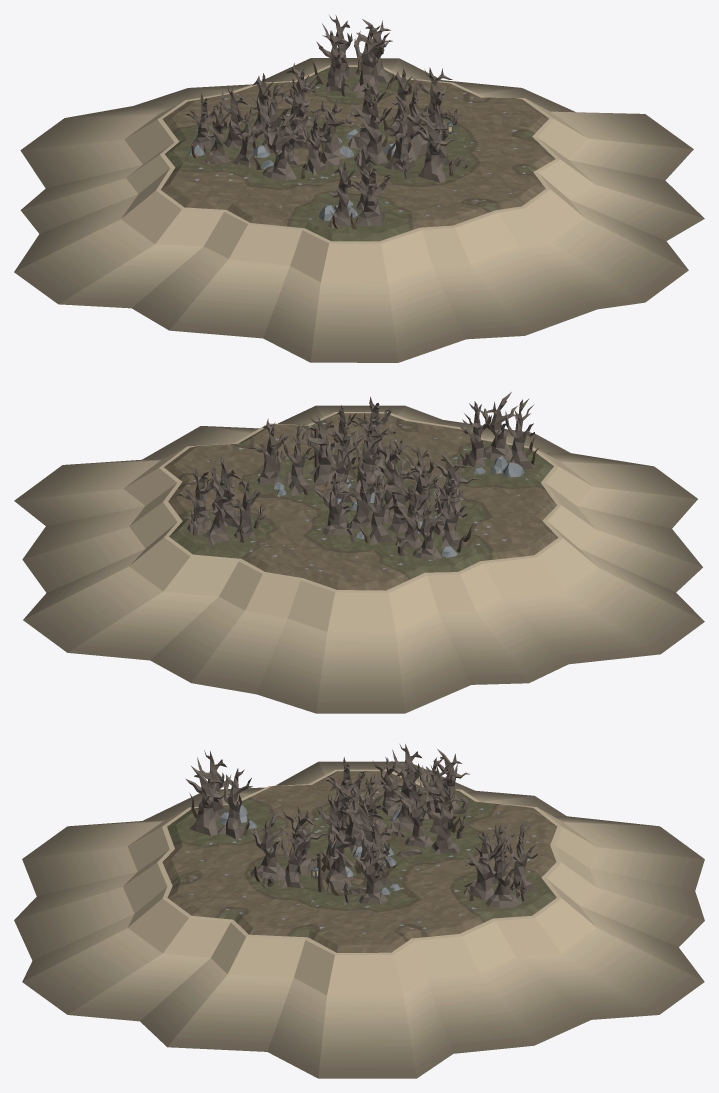
The model's file is hexMidnight04.fbx.
3 renders of one model, top to bottom at view 1: azimuth 30°, elevation 25°; view 2: azimuth 150°, elevation 25°; view 3: azimuth 270°, elevation 25°, orthographic. The views are drawn at different scales.
Parts seen in each view (by area): view 1: hexMidnight04; view 2: hexMidnight04; view 3: hexMidnight04.
Part boxes in pixels (box(x1,y1,x2,y2)): hexMidnight04: box(14, 15, 704, 362); hexMidnight04: box(14, 392, 704, 713); hexMidnight04: box(14, 744, 704, 1078).
Bounding box in the file's own units: 26.92 × 5.05 × 24.8.
